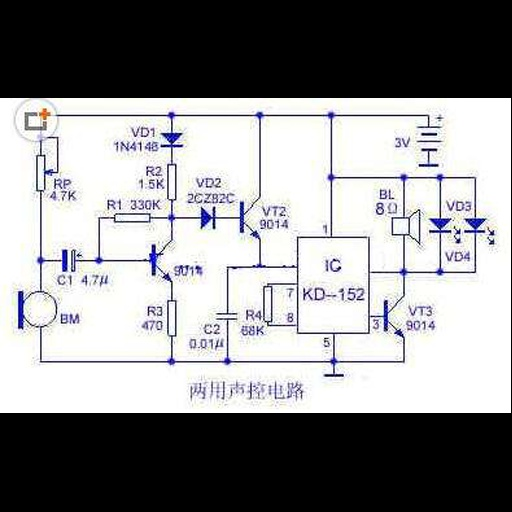battery: (414, 114, 447, 157)
capacitor: (212, 308, 241, 323)
firstdiode: (196, 202, 220, 232), (160, 130, 185, 150)
firstled: (464, 212, 499, 247), (428, 214, 464, 245)
firstresistance: (109, 209, 154, 227), (164, 159, 181, 203), (164, 297, 180, 338), (261, 281, 275, 324)
loudspeaker: (387, 209, 424, 247)
npn: (142, 233, 176, 285), (379, 287, 407, 349), (235, 189, 262, 246)
